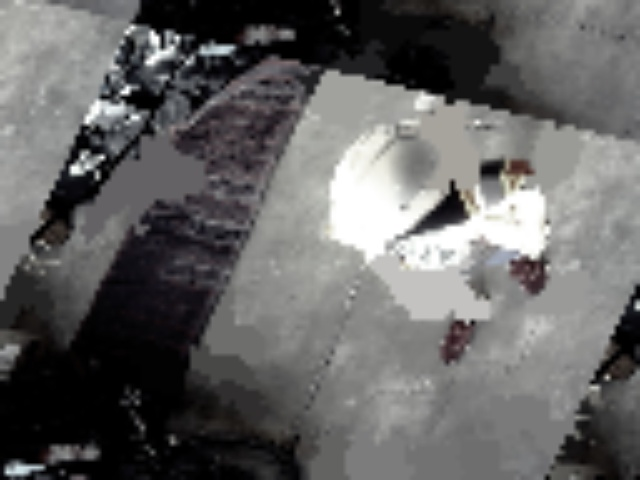eight: (367, 117, 421, 144)
